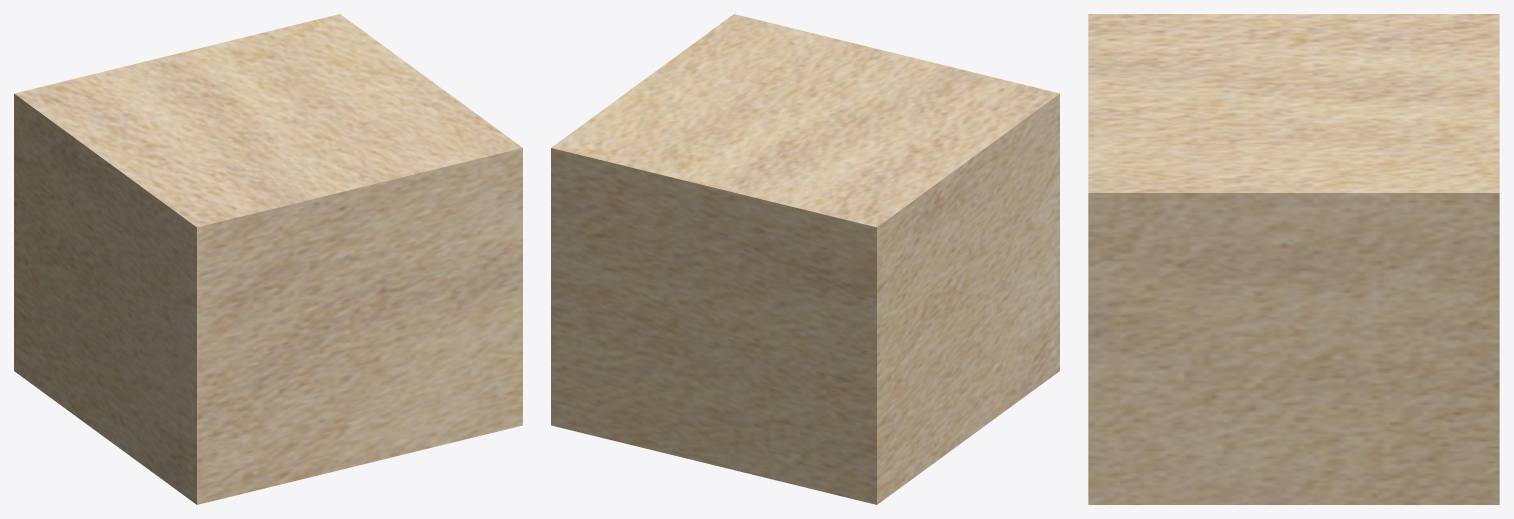
The model's file is sand.glb.
The picture shows the model from 3 angles, left to right: view 1: azimuth 30°, elevation 25°; view 2: azimuth 150°, elevation 25°; view 3: azimuth 270°, elevation 25°; orthographic projection. The views are drawn at different scales.
Visible parts, largest first — view 1: Cube_2; view 2: Cube_2; view 3: Cube_2.
Boxes of the visible parts, <box> form: Cube_2: <box>14,14,522,504</box>; Cube_2: <box>551,14,1059,504</box>; Cube_2: <box>1088,14,1499,504</box>.
Size of the model in its own units: 0.8535 by 0.6944 by 0.8299.
Materials: 1 (1 with a texture image).
